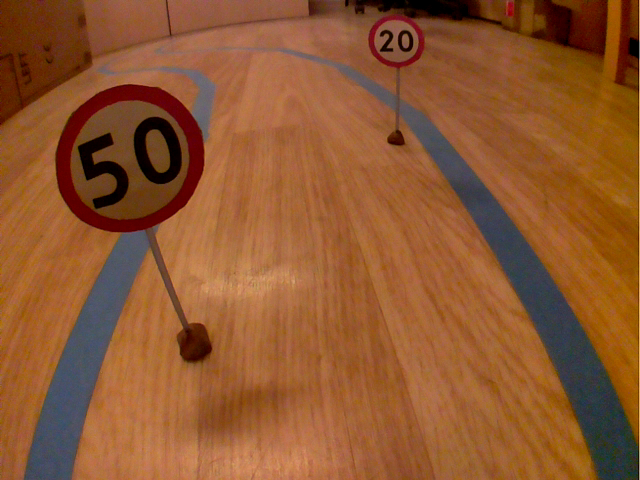Ograniczenie 20: (365, 13, 427, 72)
Ograniczenie 50: (50, 80, 209, 237)
